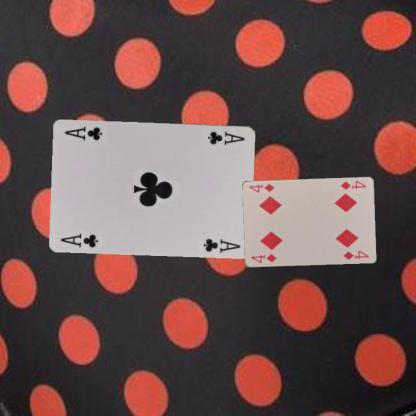4d: (248, 251, 278, 265), (338, 178, 367, 192)
Ac: (58, 230, 100, 249), (205, 128, 246, 146)
